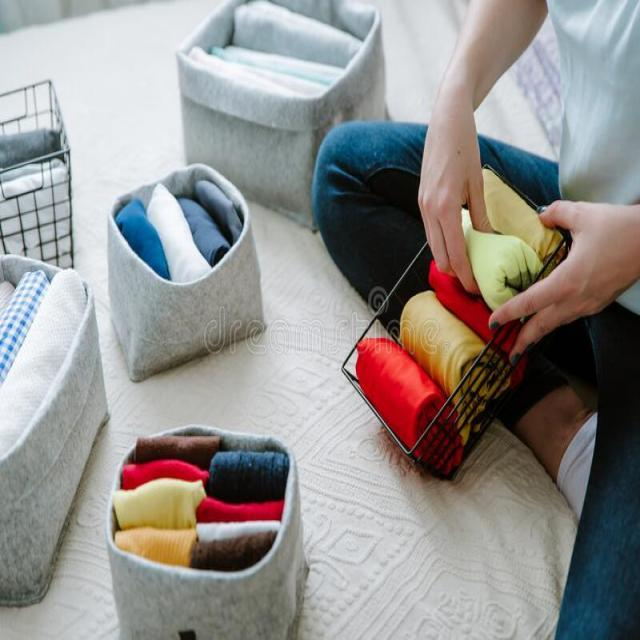clothes: (122, 432, 276, 570), (120, 186, 230, 282)
